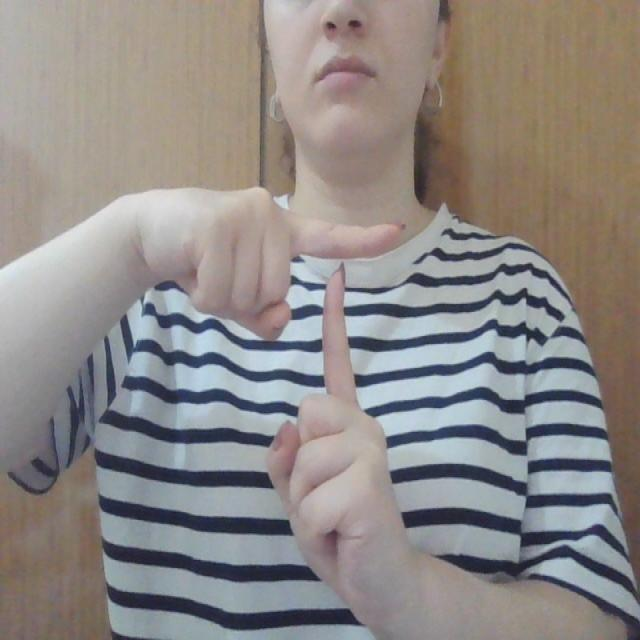Tesekkurler: (274, 193, 404, 440)
